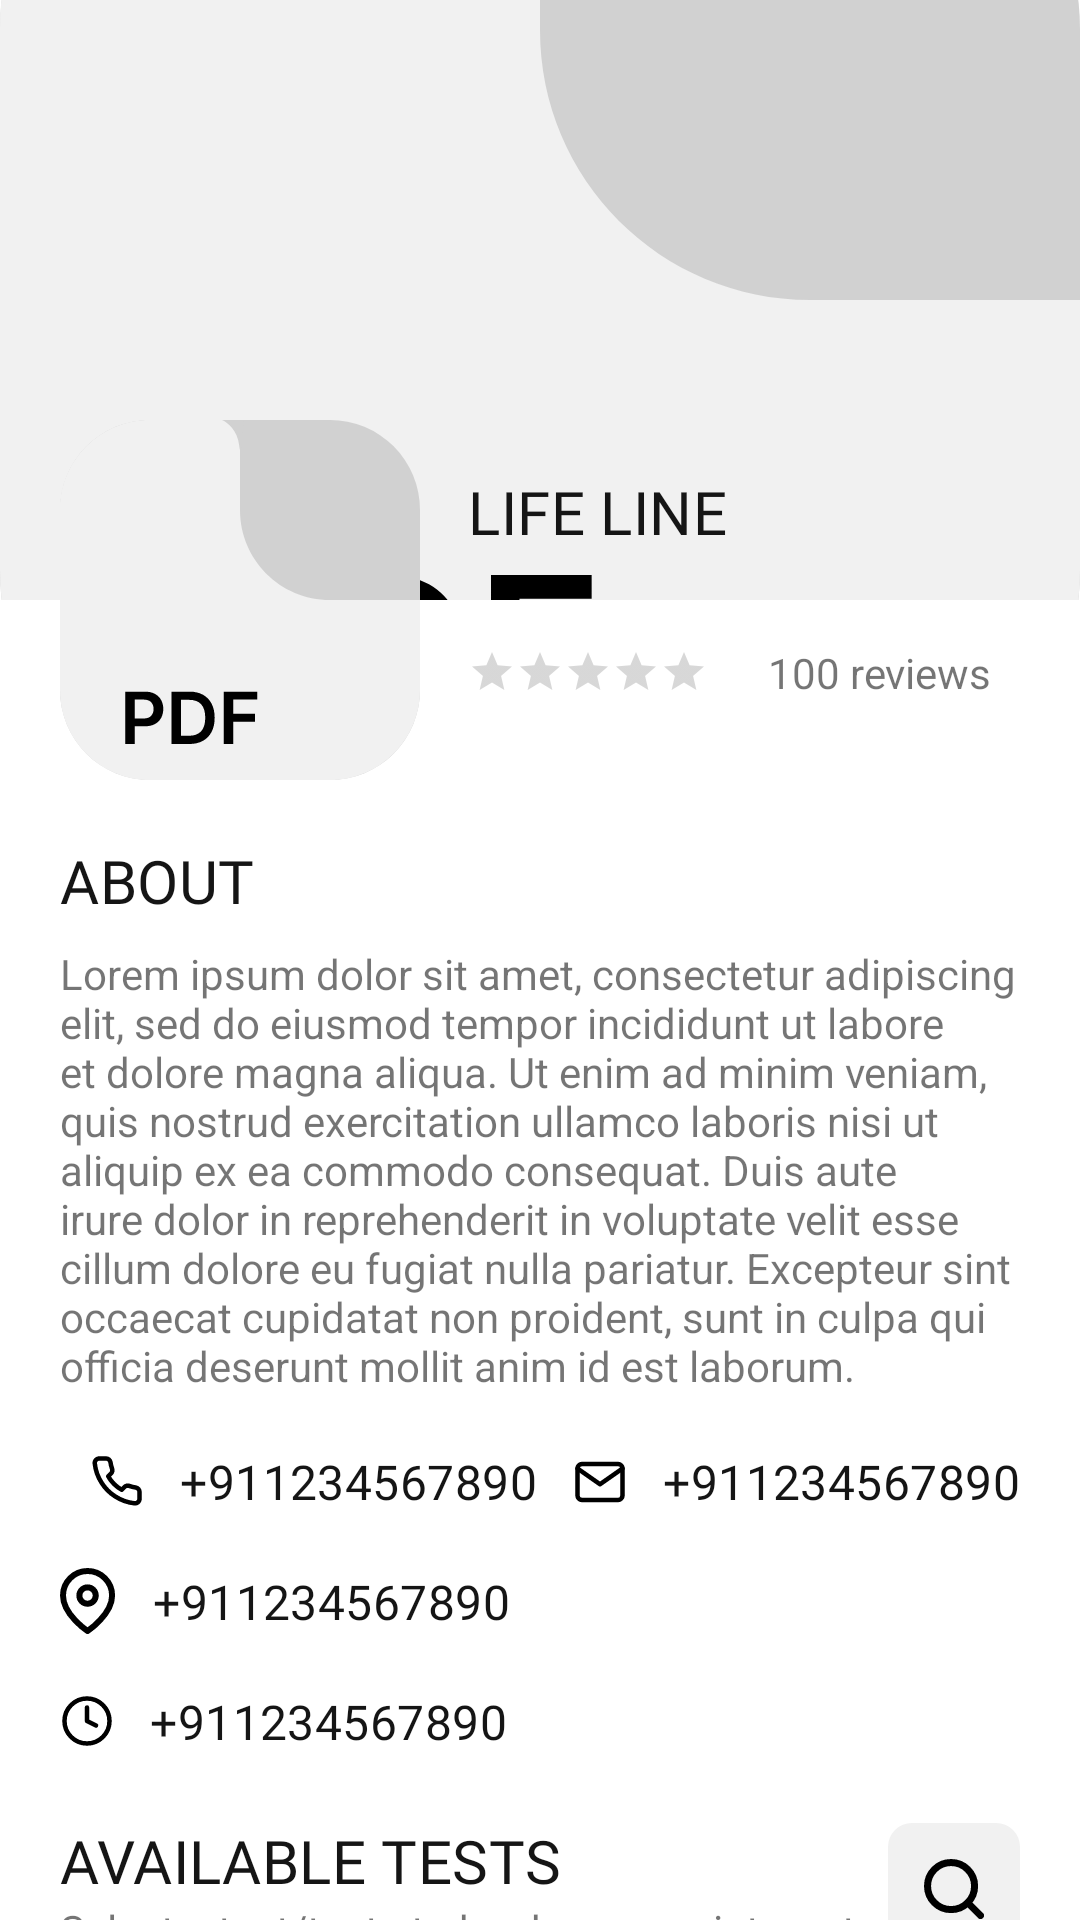

Named icons in this screenshot (1080*1920) and their bounding boxes, rect(x1, y1, x2, y2):
clock: rect(62, 1696, 112, 1746)
location: rect(60, 1568, 115, 1634)
mail: rect(575, 1461, 625, 1503)
phone: rect(92, 1456, 142, 1506)
